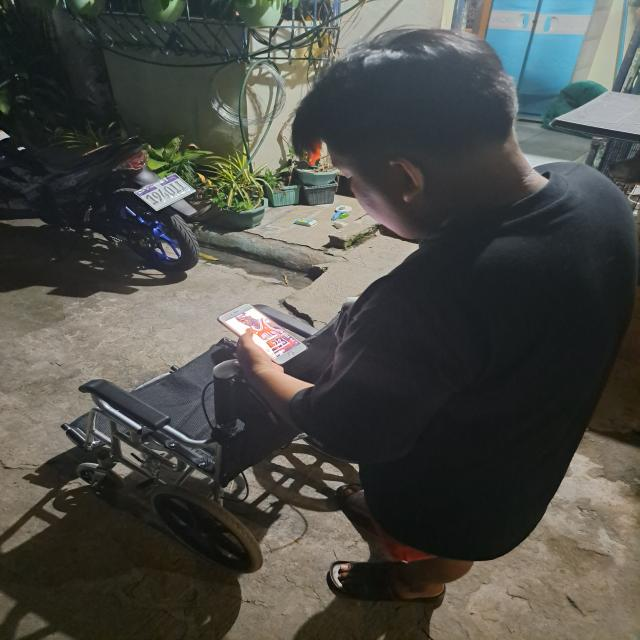wheelchairs: (66, 306, 371, 584)
